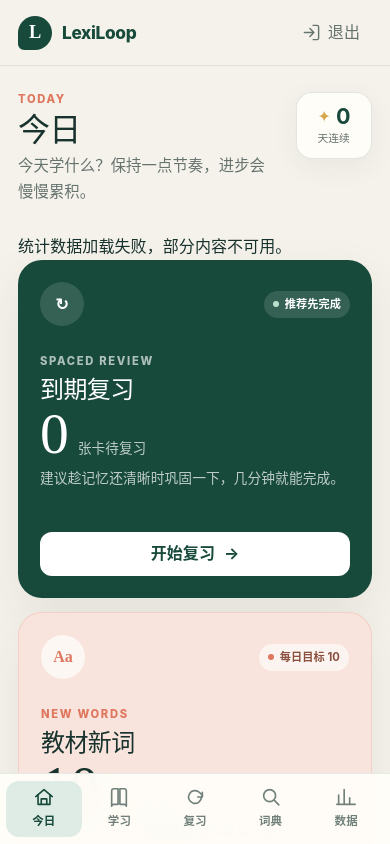
Test: shell routing › keeps the five destinations reachable from the navigation
Check: the heading "今日" is shown, box [18, 110, 80, 149]
Click the link "今日" at (44, 809), box [6, 781, 82, 837]
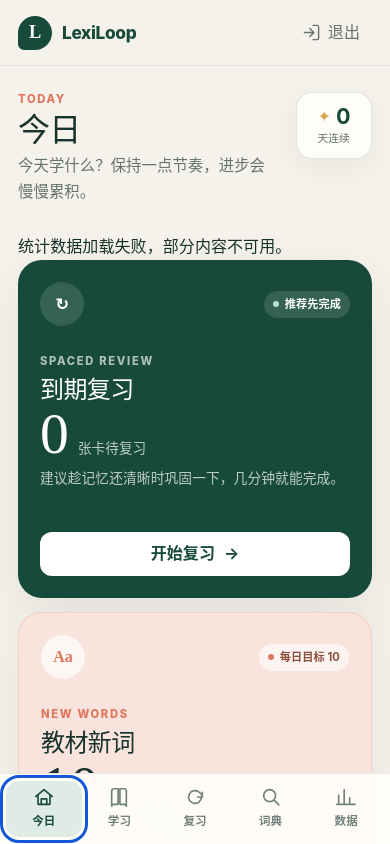
Check: the heading "今日" is shown, box [18, 110, 80, 149]
Click the link "学习" at (119, 807), box [108, 786, 131, 828]
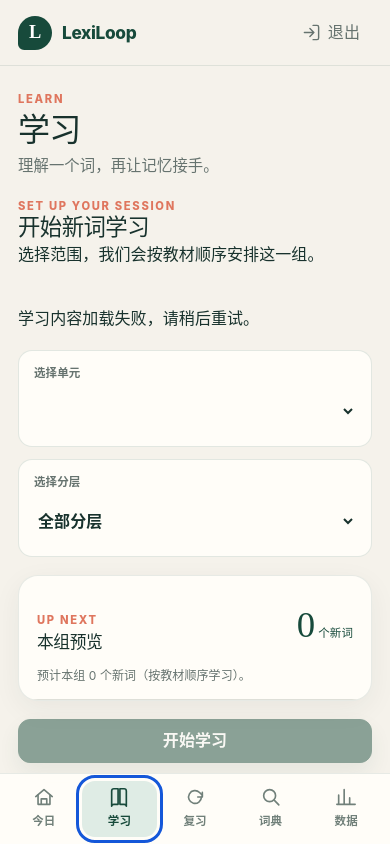
Check: the heading "学习" is shown, box [18, 110, 80, 149]
Click the link "复习" at (195, 807), box [183, 786, 207, 828]
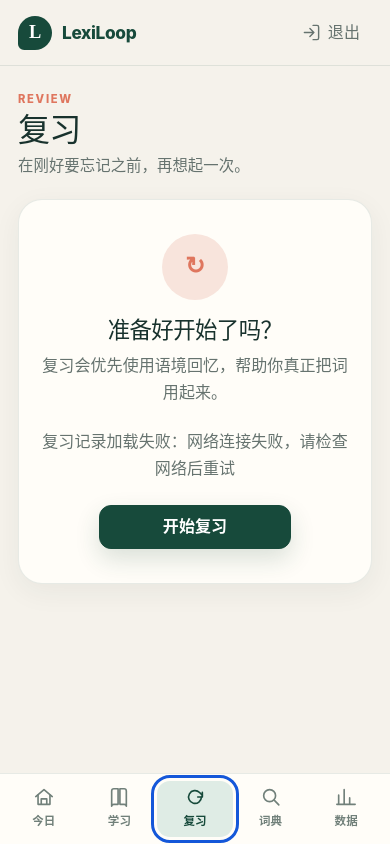
Check: the heading "复习" is shown, box [18, 110, 80, 149]
Click the link "词典" at (271, 807), box [259, 786, 282, 828]
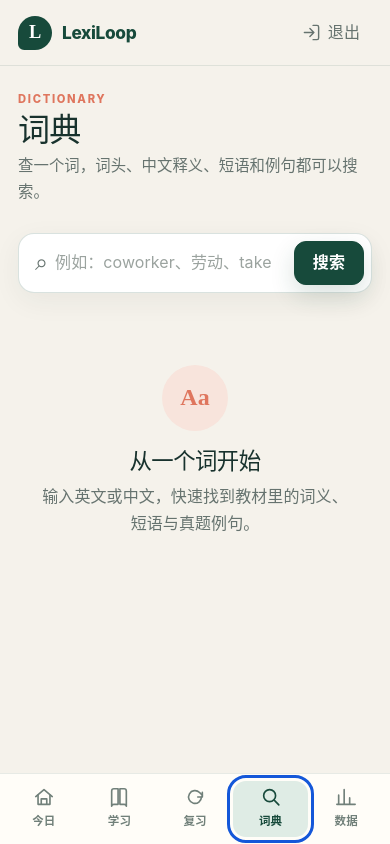
Check: the heading "词典" is shown, box [18, 110, 80, 149]
Click the link "数据" at (346, 807), box [335, 786, 358, 828]
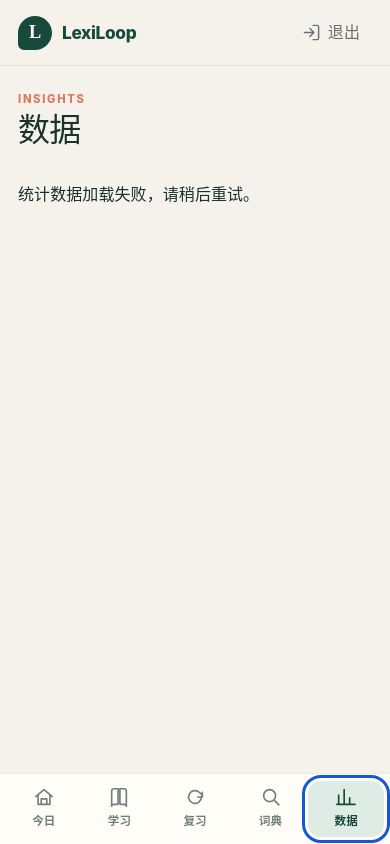
Check: the heading "数据" is shown, box [18, 113, 86, 147]
